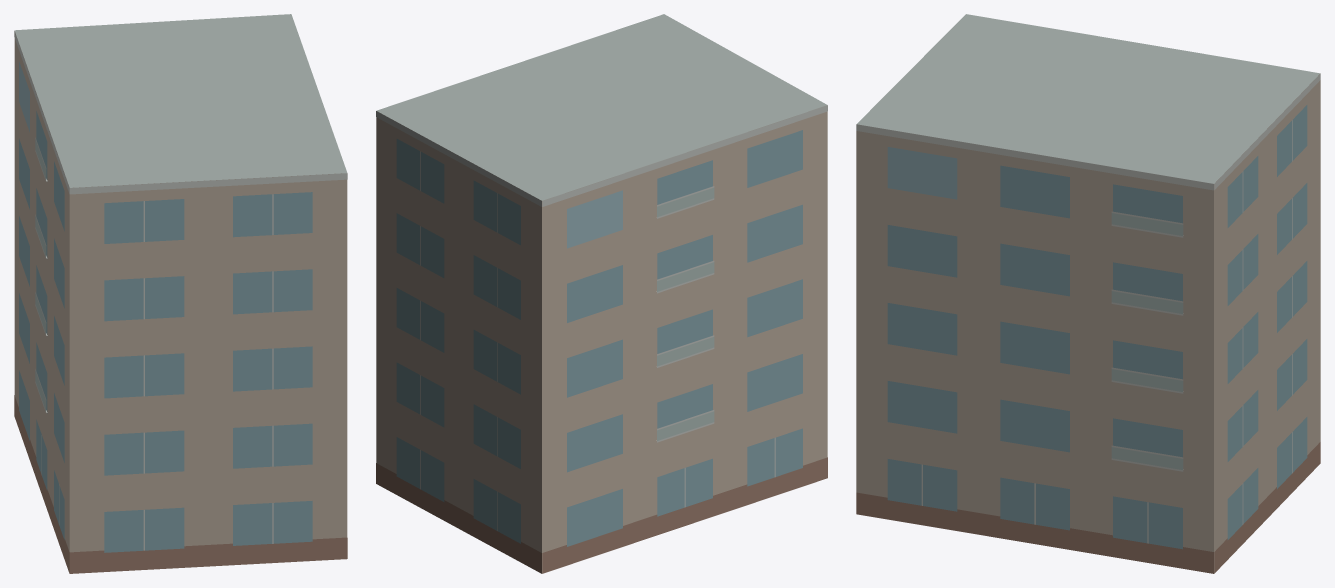
The model's file is survey-upis-32667117.glb.
3 renders of one model, left to right at view 1: azimuth 30°, elevation 25°; view 2: azimuth 150°, elevation 25°; view 3: azimuth 270°, elevation 25°, orthographic. The views are drawn at different scales.
Visible parts, largest first — view 1: survey-upis-32667117.tmp; view 2: survey-upis-32667117.tmp; view 3: survey-upis-32667117.tmp.
Boxes of the visible parts, x1=… form: survey-upis-32667117.tmp: x1=14, y1=14, x2=347, y2=573; survey-upis-32667117.tmp: x1=376, y1=14, x2=827, y2=573; survey-upis-32667117.tmp: x1=856, y1=14, x2=1320, y2=573.
Bounding box in the file's own units: 13.46 × 14.4 × 15.54.
